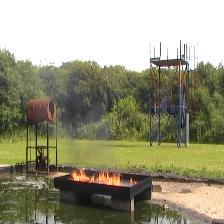fire: (98, 170, 121, 186), (73, 168, 96, 183)
